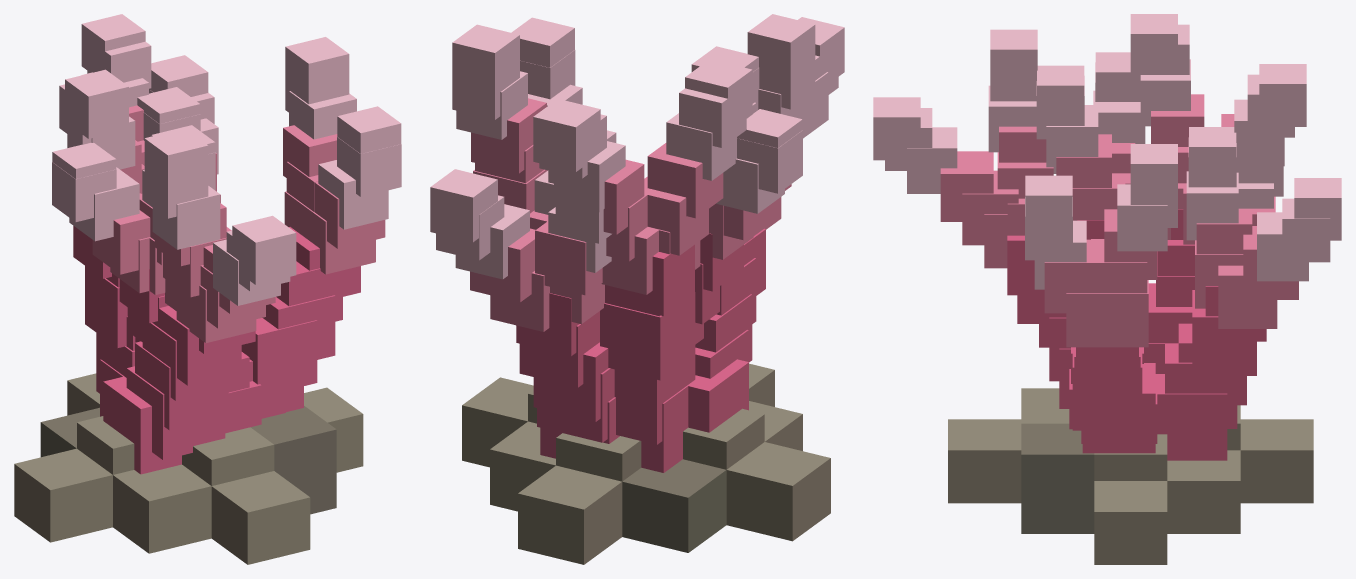
File: CoralStaghorn_Small.obj
The picture shows the model from 3 angles, left to right: view 1: azimuth 30°, elevation 25°; view 2: azimuth 150°, elevation 25°; view 3: azimuth 270°, elevation 25°; orthographic projection. The views are drawn at different scales.
Parts seen in each view (by area): view 1: CoralStaghorn_Small; view 2: CoralStaghorn_Small; view 3: CoralStaghorn_Small.
Part boxes in pixels (box(x1,y1,x2,y2)): CoralStaghorn_Small: box(14, 14, 401, 564); CoralStaghorn_Small: box(430, 14, 844, 564); CoralStaghorn_Small: box(873, 14, 1341, 564).
Size of the model in its own units: 1.27 by 1.6 by 1.6.
1 material, 1 textured.
